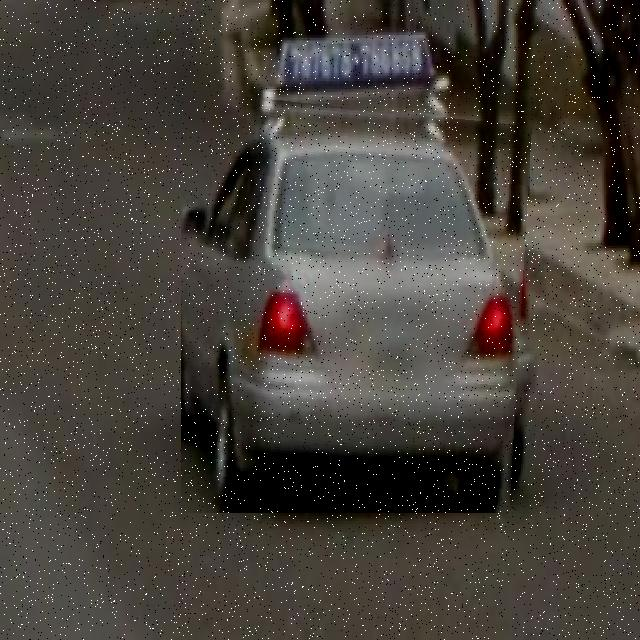car: (183, 91, 535, 514)
